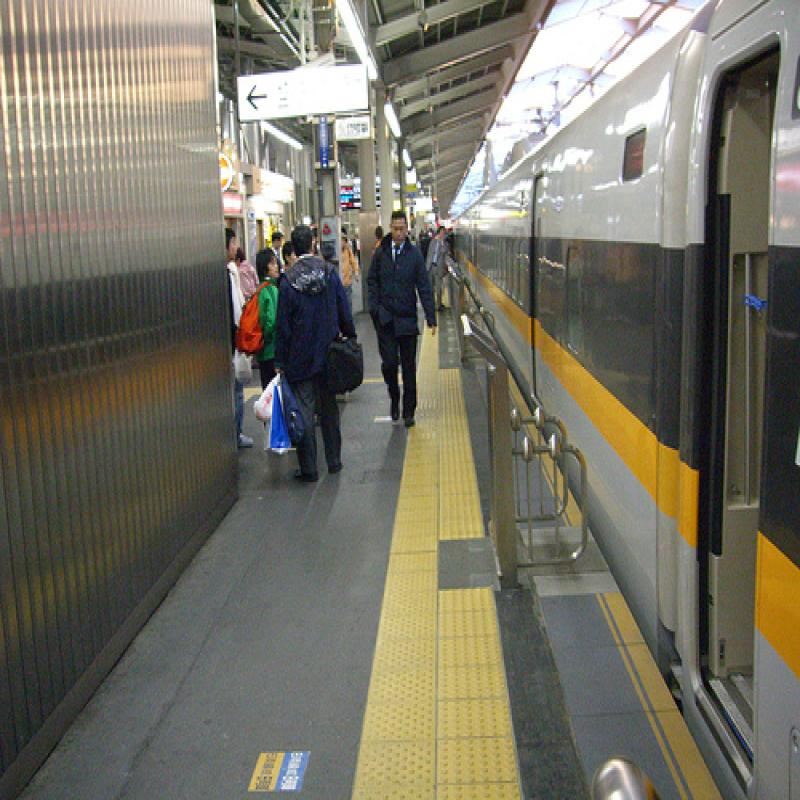train: (452, 3, 800, 800)
